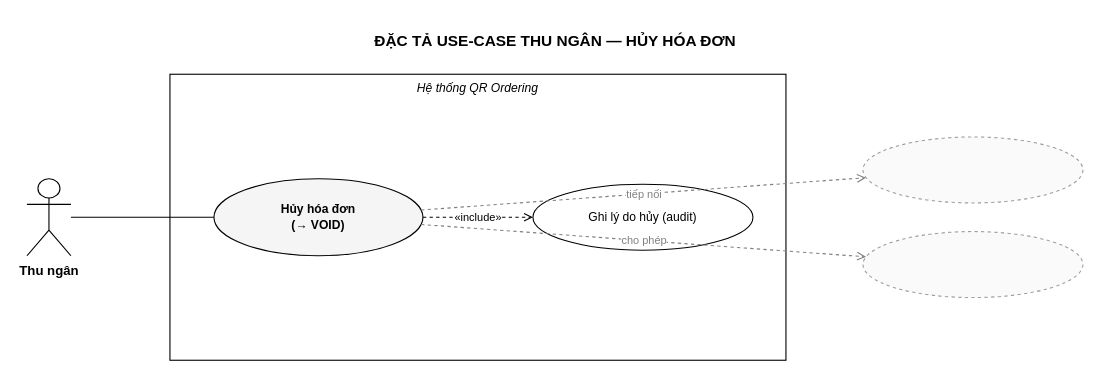
Some shapes in this 1102 by 380 pixel diagram are drawn without their labels. The centre of each missing label's shape, as x and y in pixels:
Xem hóa đơn (UC-21): the point at 972,169
Đóng phiên (UC-25): the point at 972,264
